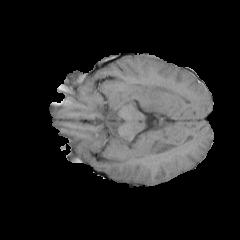glioma: (139, 79, 175, 111)
